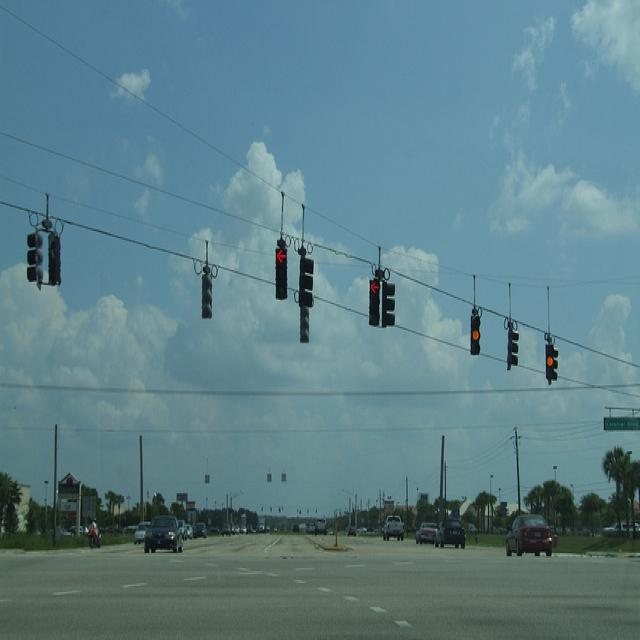motor: (87, 525, 98, 548)
